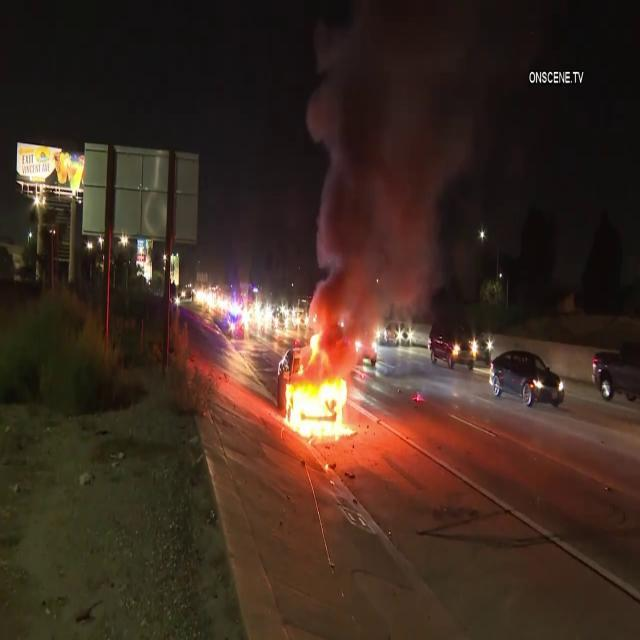Fire: (284, 343, 355, 441)
Smoke: (306, 0, 491, 343)
